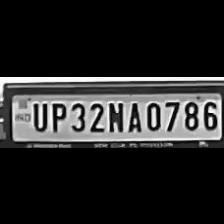0: (142, 97, 162, 130)
2: (87, 99, 105, 133)
3: (68, 98, 86, 132)
6: (200, 96, 218, 130)
7: (161, 97, 179, 130)
8: (180, 97, 200, 131)
A: (125, 98, 142, 132)
N: (104, 98, 124, 132)
P: (47, 98, 66, 132)
U: (28, 97, 48, 130)
